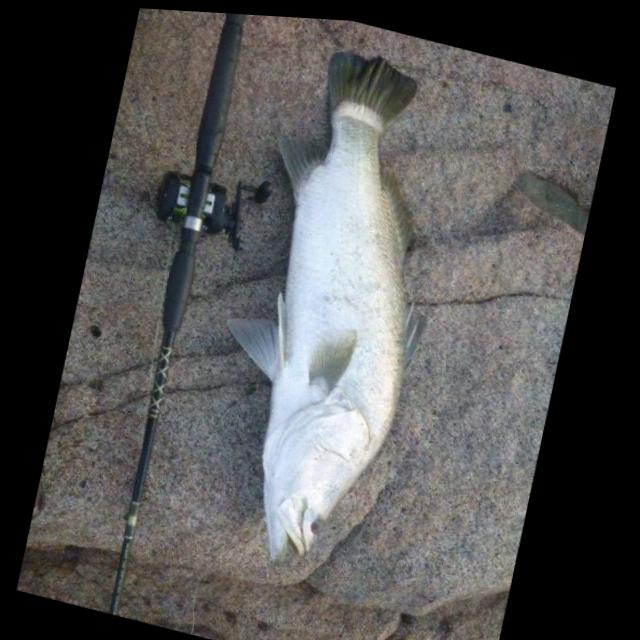Seabass: (182, 32, 477, 596)
